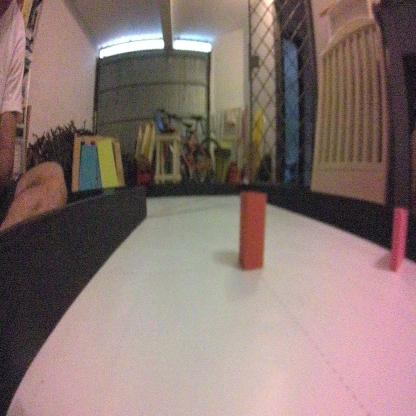magenta: (388, 206, 408, 272)
red: (235, 179, 270, 277)
